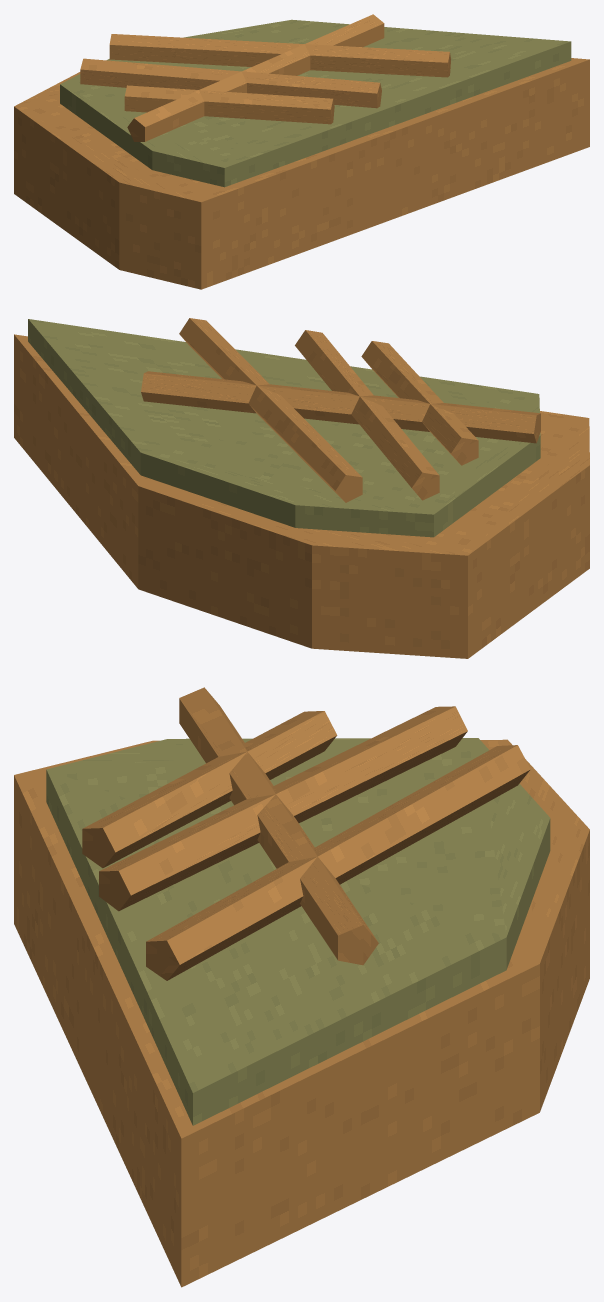
File: pie_veggy.glb
3 renders of one model, top to bottom at view 1: azimuth 30°, elevation 25°; view 2: azimuth 150°, elevation 25°; view 3: azimuth 270°, elevation 25°, orthographic. The views are drawn at different scales.
Parts seen in each view (by area): view 1: block_baked crust, block_exposed filling, block_woven pastry strip 0 (×4); view 2: block_baked crust, block_exposed filling, block_woven pastry strip 0 (×4); view 3: block_baked crust, block_exposed filling, block_woven pastry strip 0 (×4).
Part boxes in pixels (x1,y1,x2,y2): block_baked crust: (14, 58, 589, 289); block_exposed filling: (60, 19, 571, 187); block_woven pastry strip 0 (×4): (80, 14, 450, 141); block_baked crust: (14, 334, 589, 658); block_exposed filling: (28, 319, 540, 537); block_woven pastry strip 0 (×4): (141, 318, 540, 502); block_baked crust: (14, 739, 589, 1287); block_exposed filling: (46, 738, 550, 1125); block_woven pastry strip 0 (×4): (82, 687, 530, 980).
Size of the model in its own units: 0.1203 by 0.0319 by 0.0734.
1 material, 1 textured.
